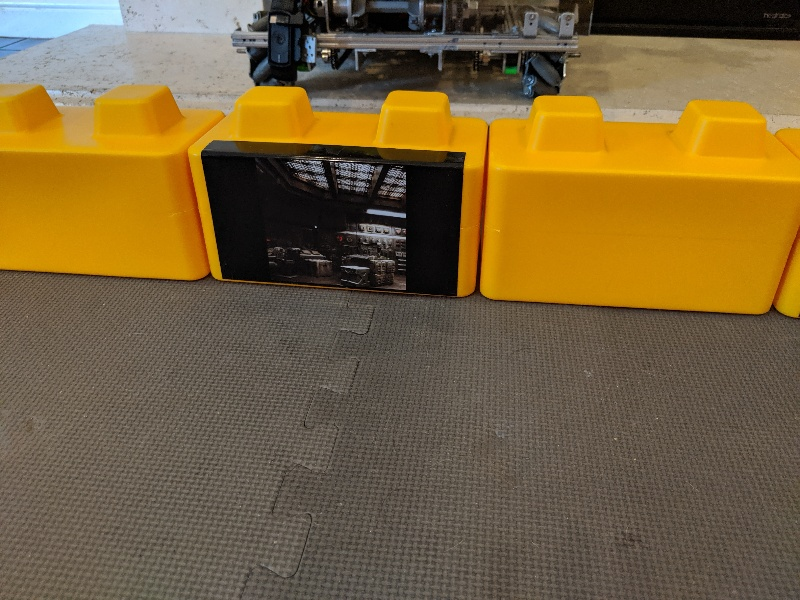Skystone: (191, 125, 470, 304)
